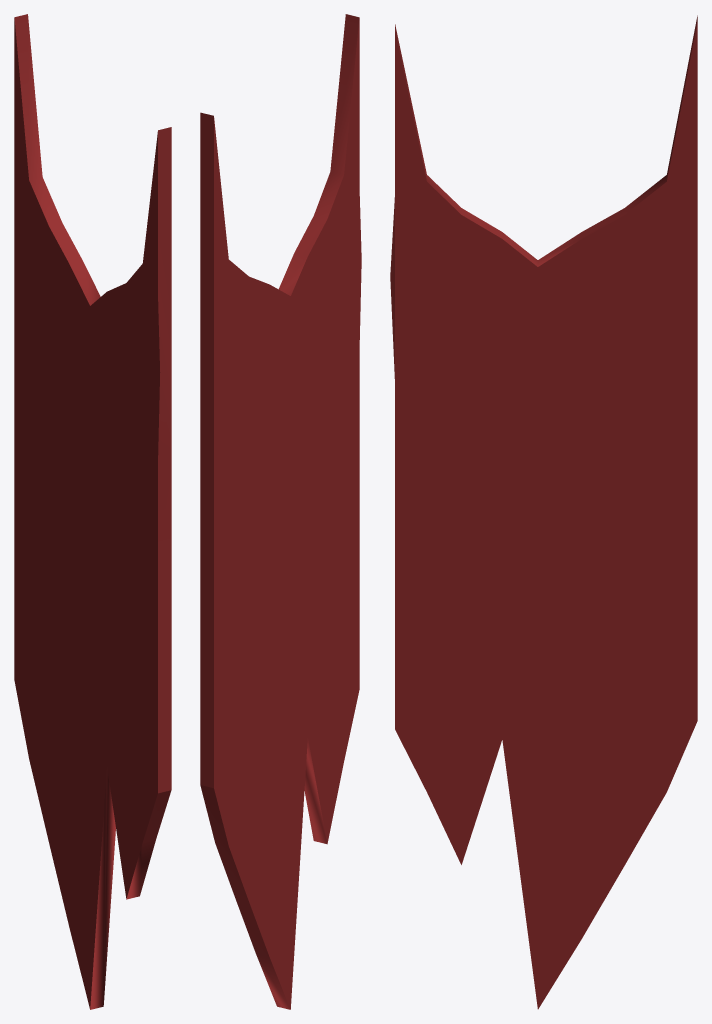
Rendered from ClothMesh.obj.
3 views of the same model, side by side, from view 1: azimuth 30°, elevation 25°; view 2: azimuth 150°, elevation 25°; view 3: azimuth 270°, elevation 25° (orthographic). The views are drawn at different scales.
Parts seen in each view (by area): view 1: ClothMesh; view 2: ClothMesh; view 3: ClothMesh.
Part boxes in pixels (x1=…): ClothMesh: x1=14, y1=14, x2=171, y2=1009; ClothMesh: x1=200, y1=14, x2=361, y2=1009; ClothMesh: x1=390, y1=15, x2=697, y2=1009.
Bounding box in the file's own units: 0.064 × 4.24 × 1.19.
